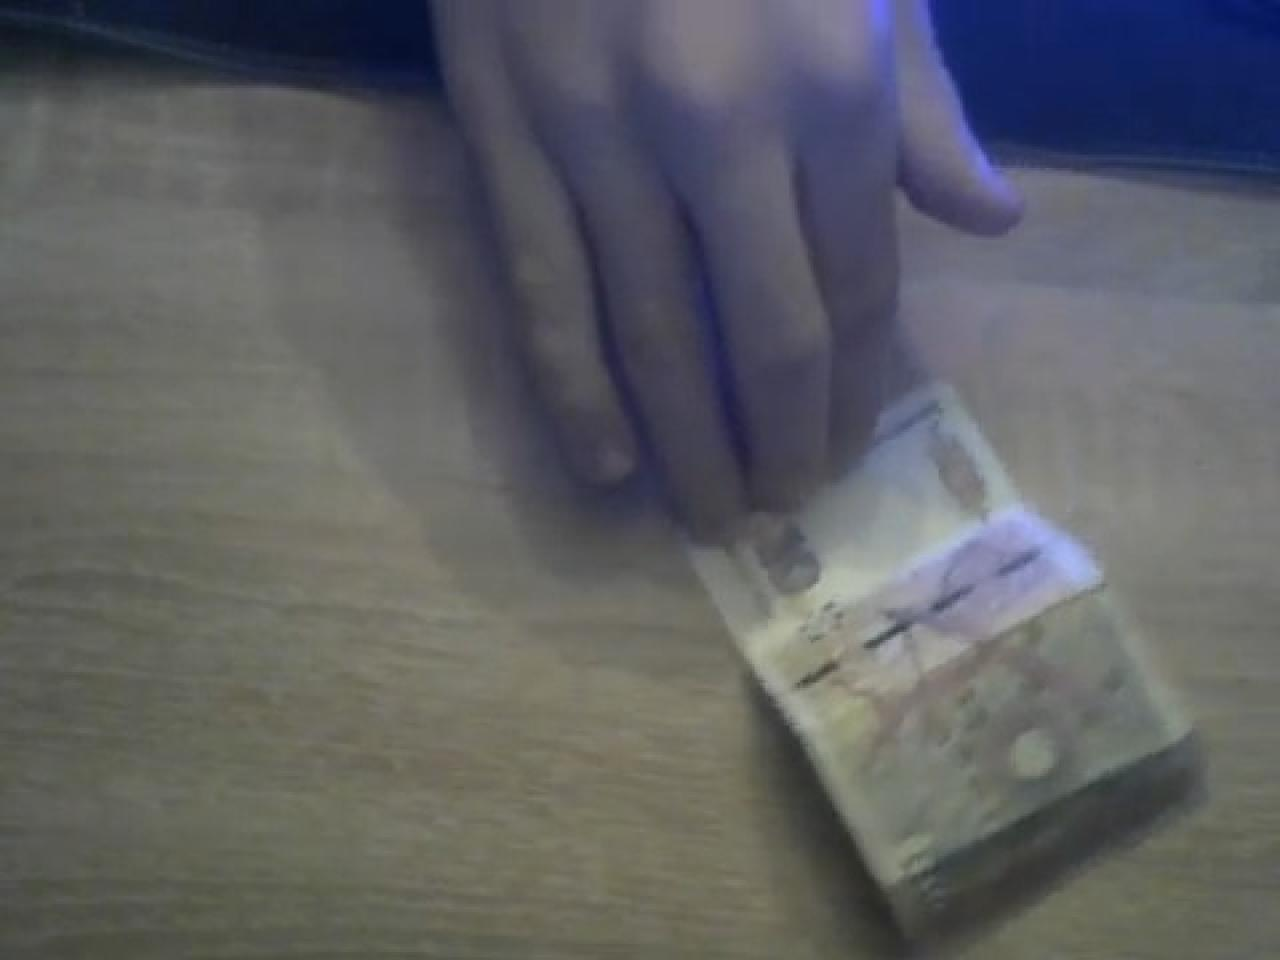10leva: (685, 386, 1208, 960)
